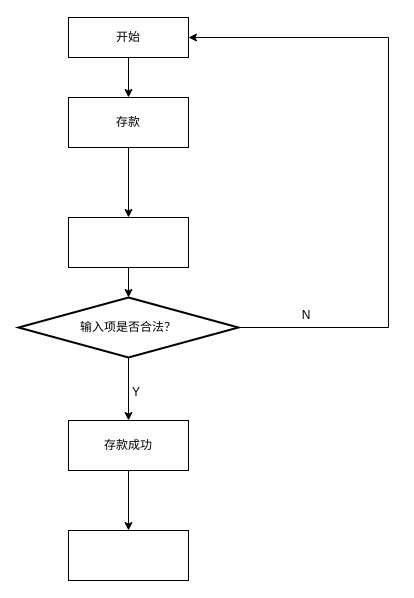
Some shapes in this 414 by 598 pixel diagram are drawn without their labels. Here are the shapes that lost their labels. From the top down, the box of each, then its label:
(68, 216, 188, 268): 填写存款金额
(68, 530, 188, 580): 结束
